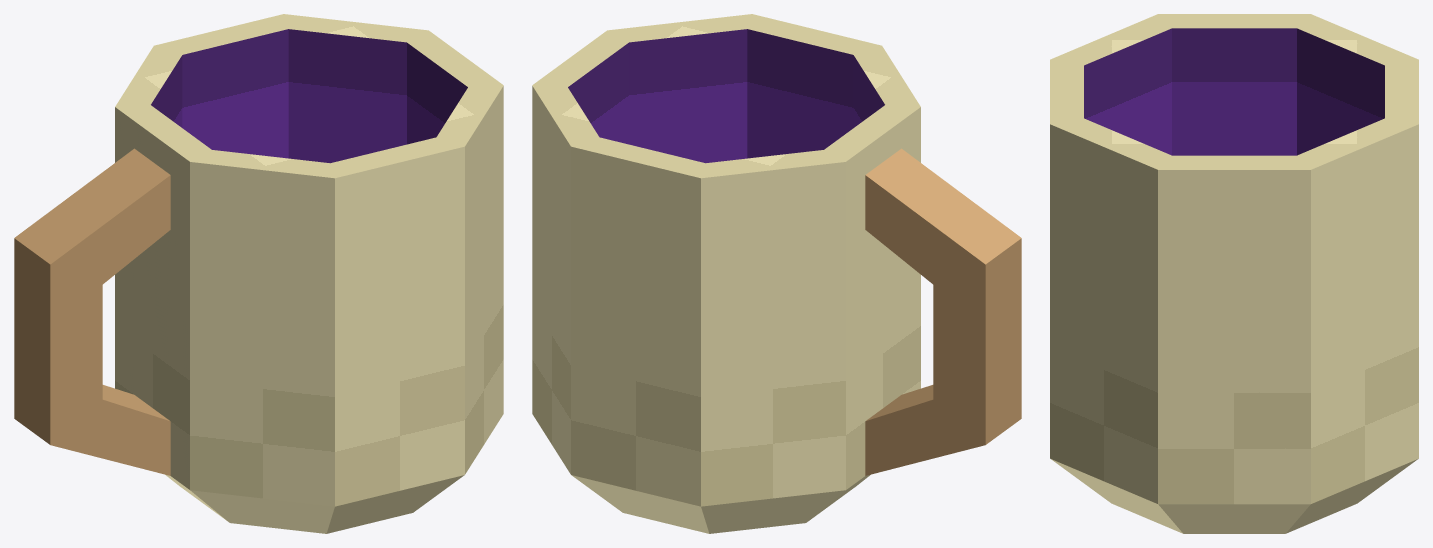
File: mug.obj
3 views of the same model, side by side, from view 1: azimuth 30°, elevation 25°; view 2: azimuth 150°, elevation 25°; view 3: azimuth 270°, elevation 25° (orthographic).
Visible parts, largest first — view 1: base, handle; view 2: base, handle; view 3: base.
Part boxes in pixels (bbox=[...]): base: bbox=[115, 14, 503, 533]; handle: bbox=[14, 148, 170, 475]; base: bbox=[532, 14, 920, 533]; handle: bbox=[865, 148, 1021, 475]; base: bbox=[1050, 14, 1418, 533].
Bounding box in the file's own units: 0.2594 × 0.2188 × 0.1875.
